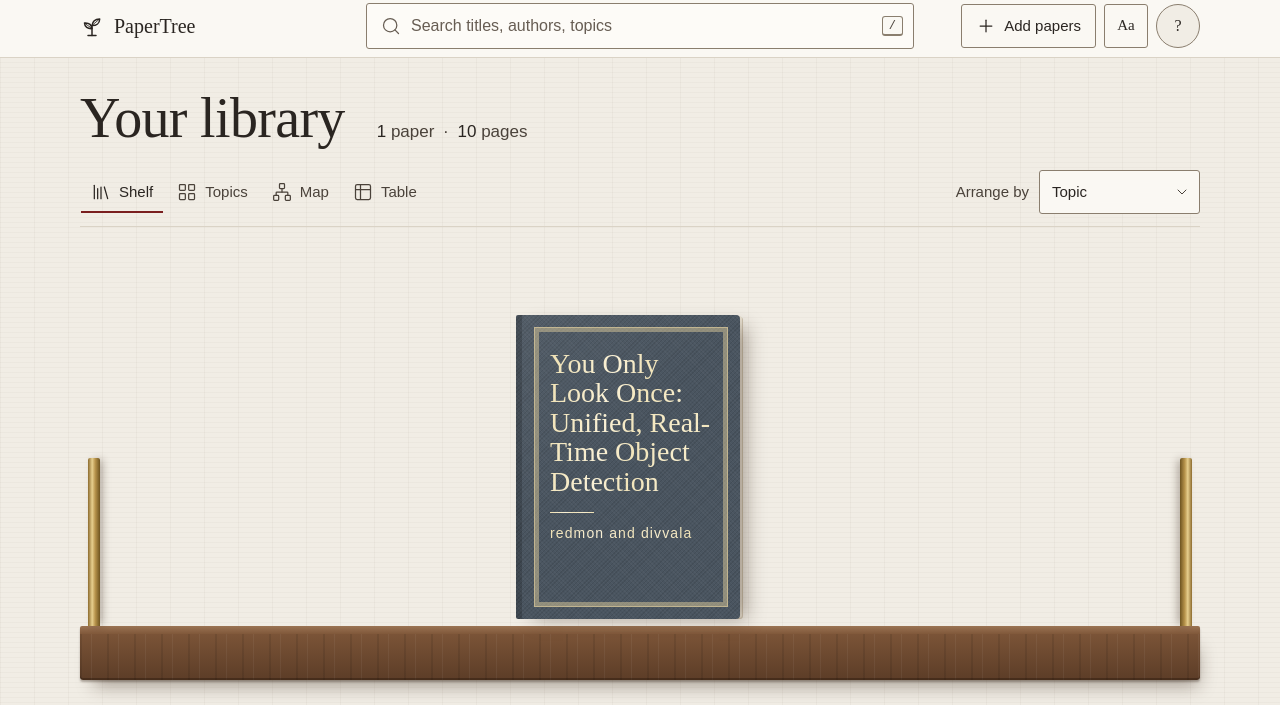
library rows from the API (S1 shape) › partial says plainly that some parts could not be read
The image size is (1280, 705).
Click the button with aria-label "You Only Look Once: Unified, Real-Time Object Detection, Red" at (628, 467), box [516,315,740,619]
(page scrolled)
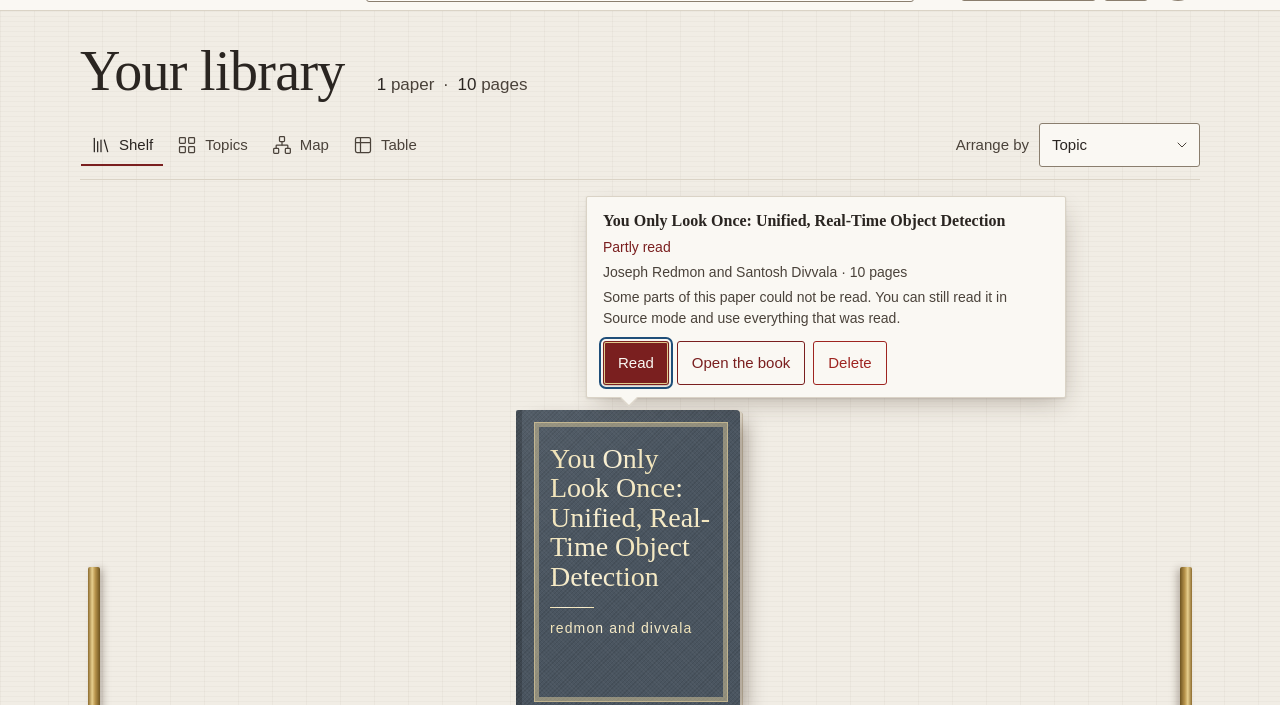
Now the text "Partly read" is shown, box [603,237,671,258]
Now the text "some parts of this paper could not be read" is shown, box [603,289,1007,326]
